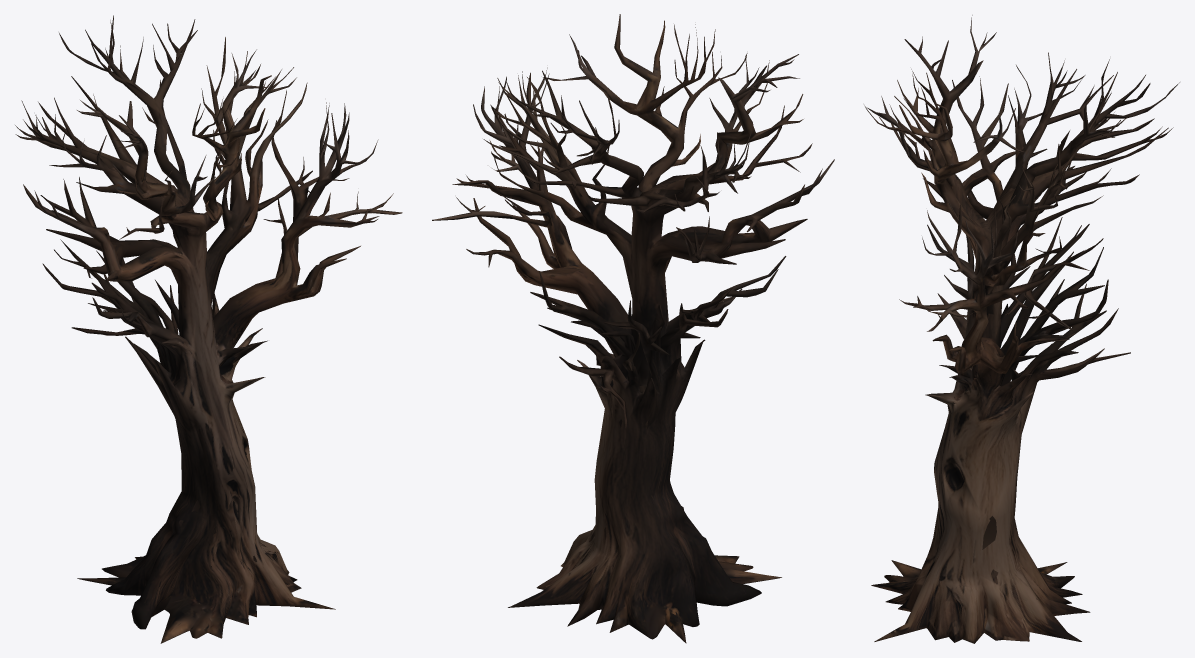
File: deadtree.opt.glb
3 renders of one model, left to right at view 1: azimuth 30°, elevation 25°; view 2: azimuth 150°, elevation 25°; view 3: azimuth 270°, elevation 25°, orthographic. The views are drawn at different scales.
Size of the model in its own units: 0.6974 by 1.03 by 0.5576.
1 material, 1 textured.
